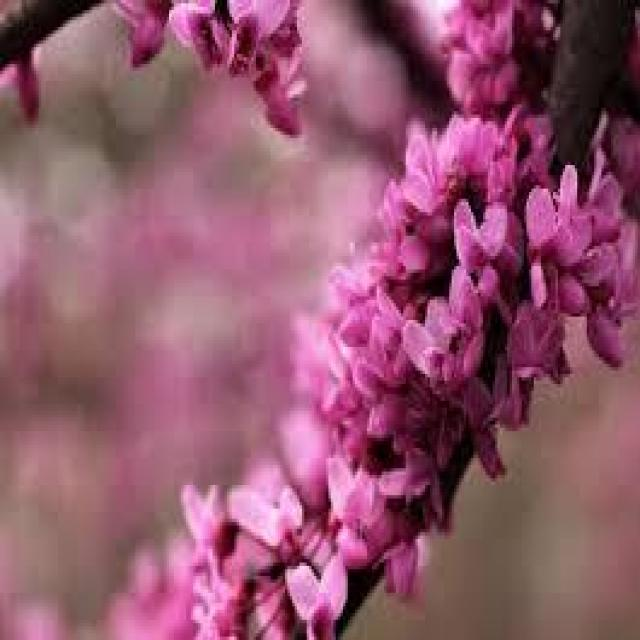organic waste: (358, 120, 614, 460)
